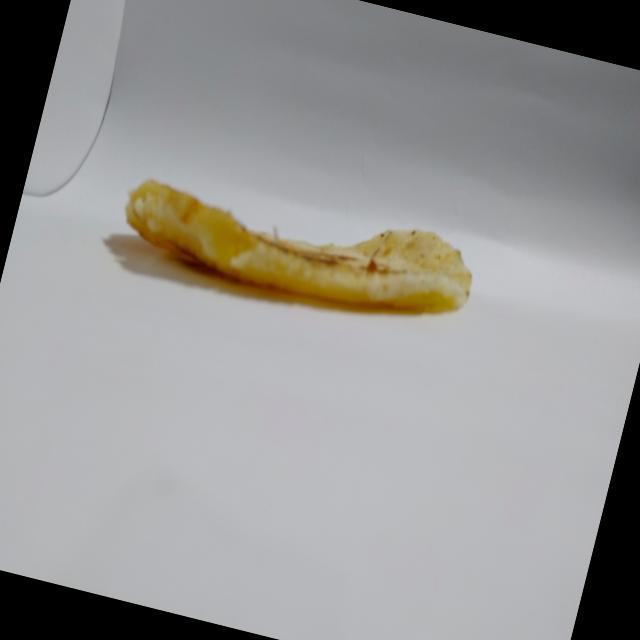Mbeju: (100, 122, 494, 352)
